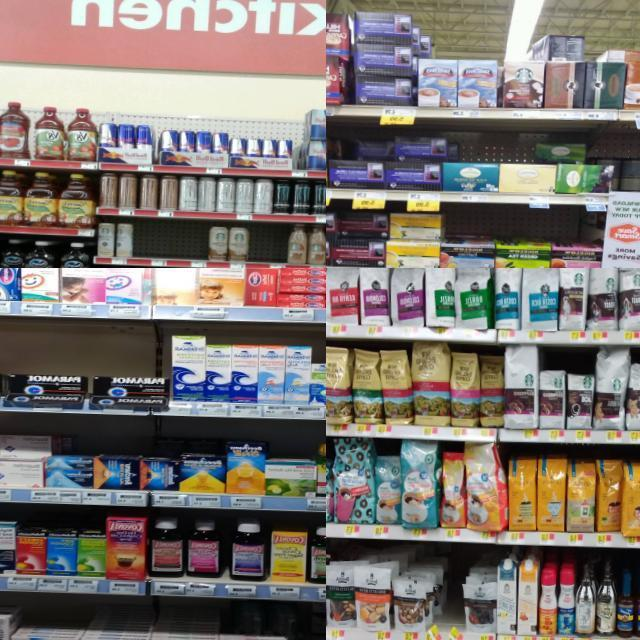empty: (443, 552, 463, 640), (172, 220, 208, 268), (250, 224, 287, 268)
